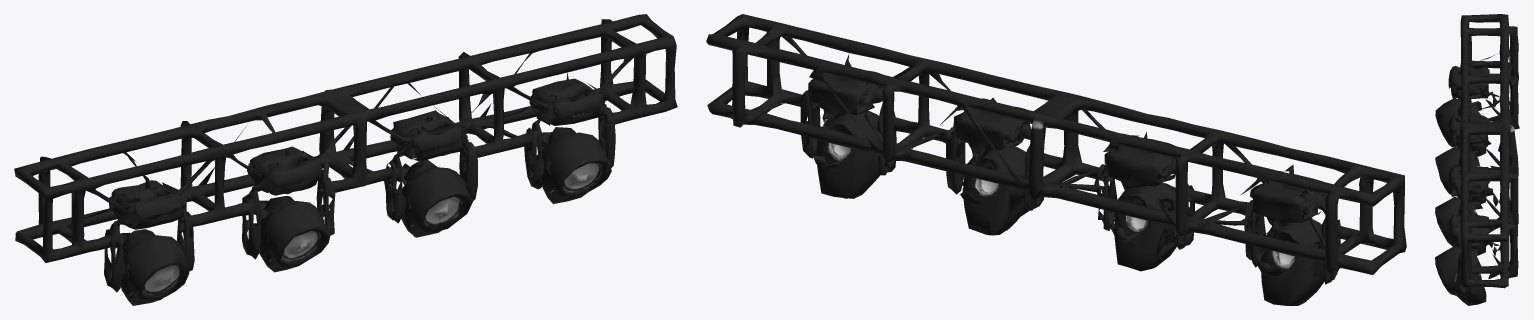
The model's file is truss-par-s1.lo.glb.
3 views of the same model, side by side, from view 1: azimuth 30°, elevation 25°; view 2: azimuth 150°, elevation 25°; view 3: azimuth 270°, elevation 25° (orthographic). The views are drawn at different scales.
Visible parts, largest first — view 1: geometry_0; view 2: geometry_0; view 3: geometry_0.
Part boxes in pixels (x1,y1,x2,y2): geometry_0: [14, 14, 677, 305]; geometry_0: [706, 14, 1406, 305]; geometry_0: [1435, 14, 1519, 305].
Size of the model in its own units: 1 by 0.218 by 0.1614.
Materials: 1 (1 with a texture image).
